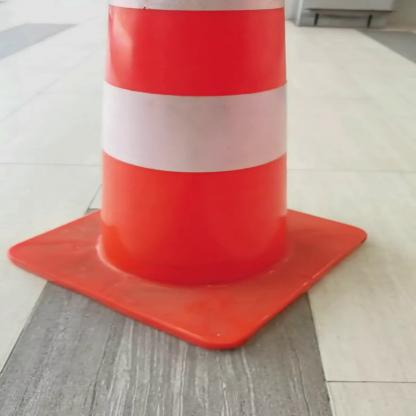cone: (3, 2, 376, 354)
